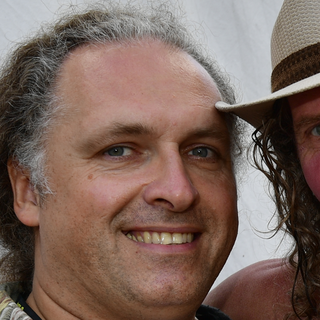eye: (87, 140, 145, 164), (176, 140, 221, 163)
